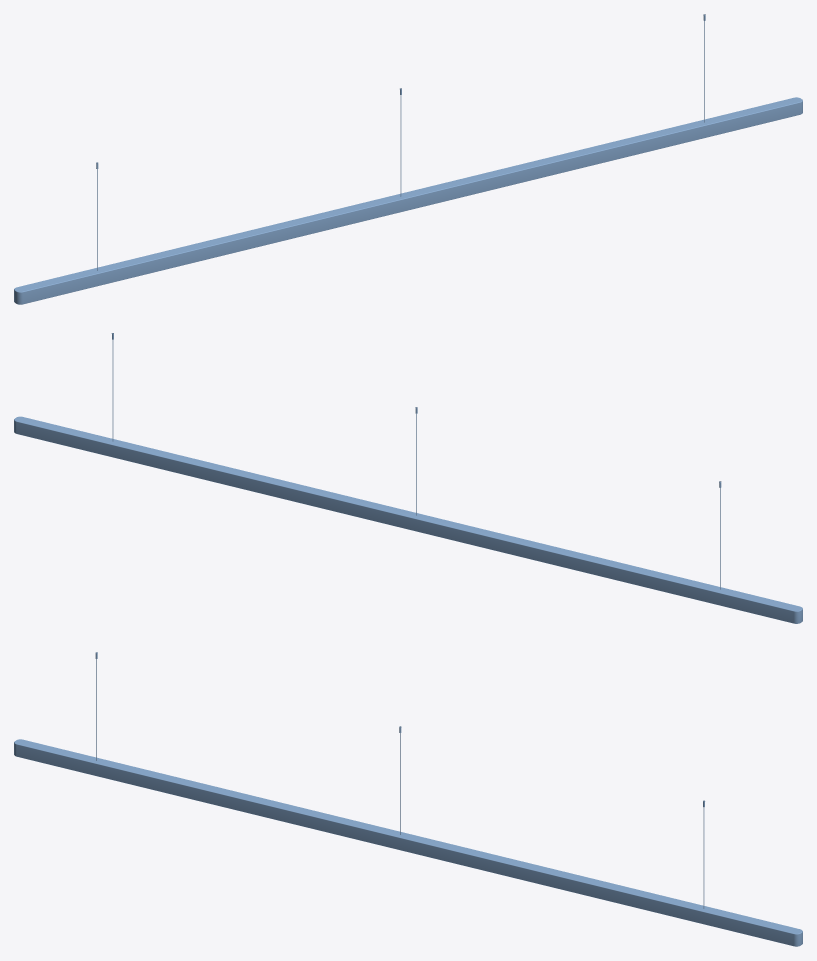
File: SpotLight03_base.FBX
3 renders of one model, top to bottom at view 1: azimuth 30°, elevation 25°; view 2: azimuth 150°, elevation 25°; view 3: azimuth 330°, elevation 25°, orthographic.
Visible parts, largest first — view 1: polySurface9; view 2: polySurface9; view 3: polySurface9.
Part boxes in pixels (x1,y1,x2,y2): polySurface9: (14,14,802,304); polySurface9: (14,333,802,623); polySurface9: (14,652,802,946).
Size of the model in its own units: 3.29 by 0.4833 by 0.0472.
